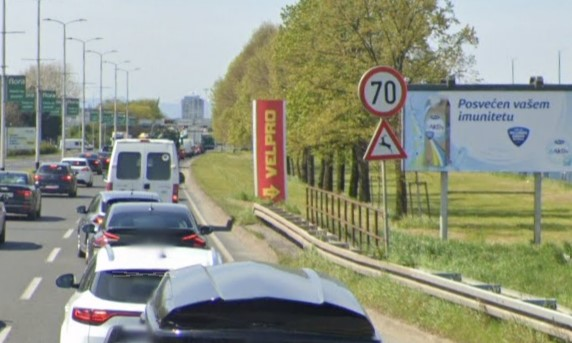Divljač na cesti: (363, 118, 409, 160)
Ograničenje brzine 70: (357, 65, 407, 117)
